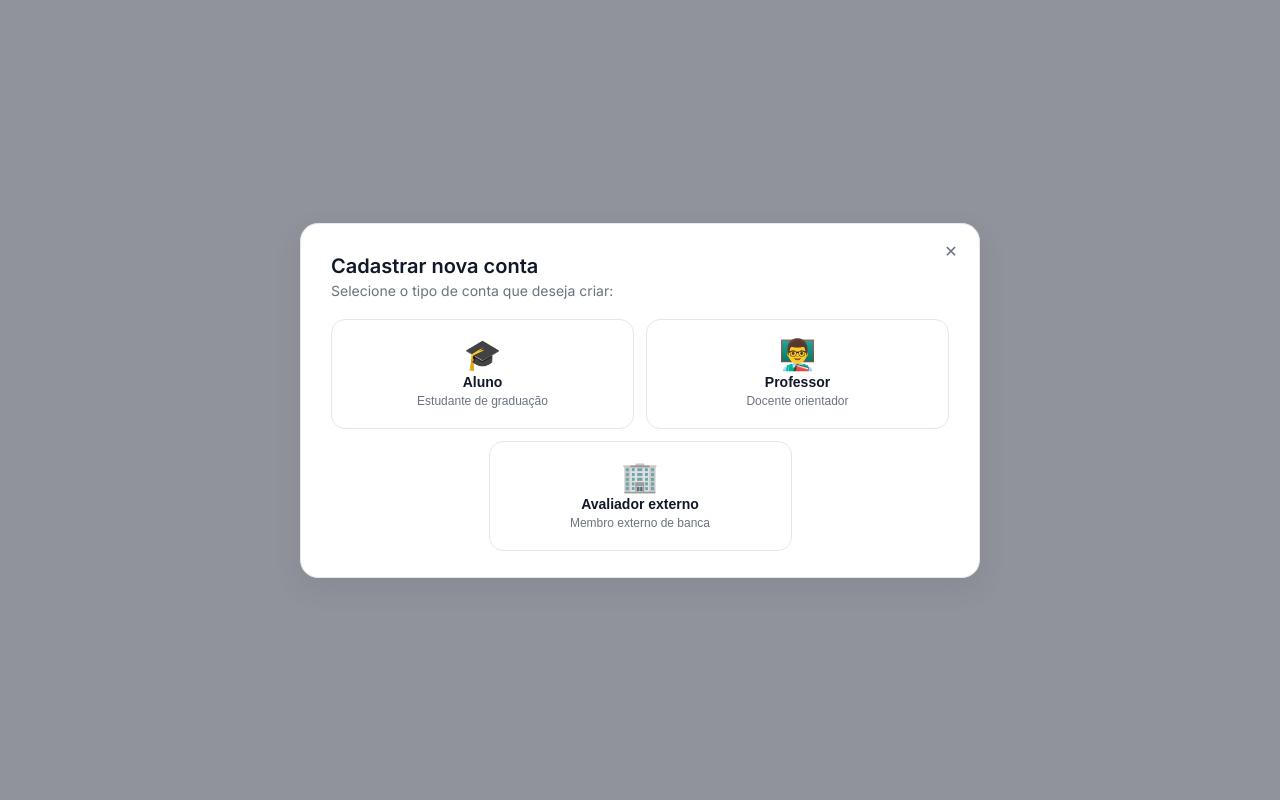
Perfil SEM código configurado › erro de código vindo do backend aparece no campo
Click the text "Aluno": (483, 382) [463,374,502,390]
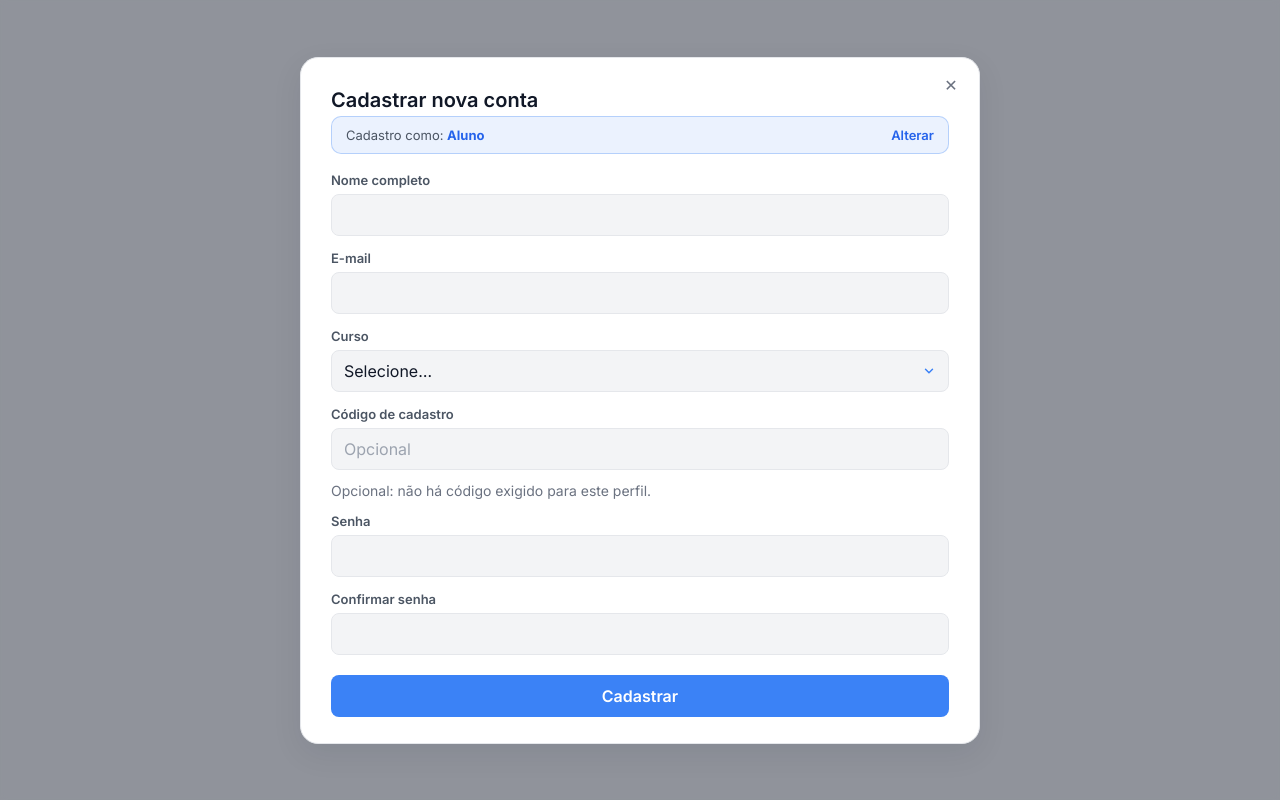
In the field labelled "Nome completo": (640, 214) [331,194,949,236], type "Fulano de Tal"
In the field labelled "E-mail": (640, 292) [331,272,949,314], type "fulano@exemplo.com"
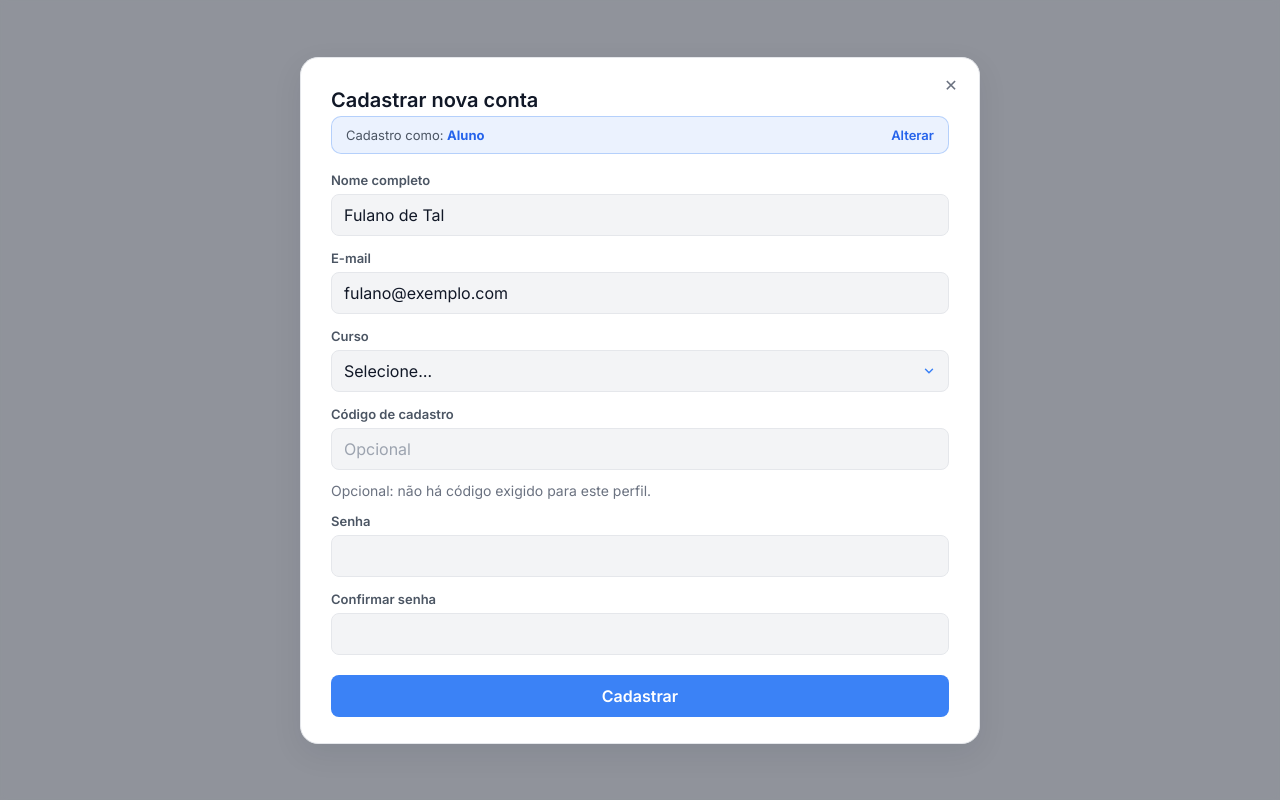
Select "Engenharia Elétrica" in the dropdown labelled "Curso": (640, 370) [331,350,949,392]
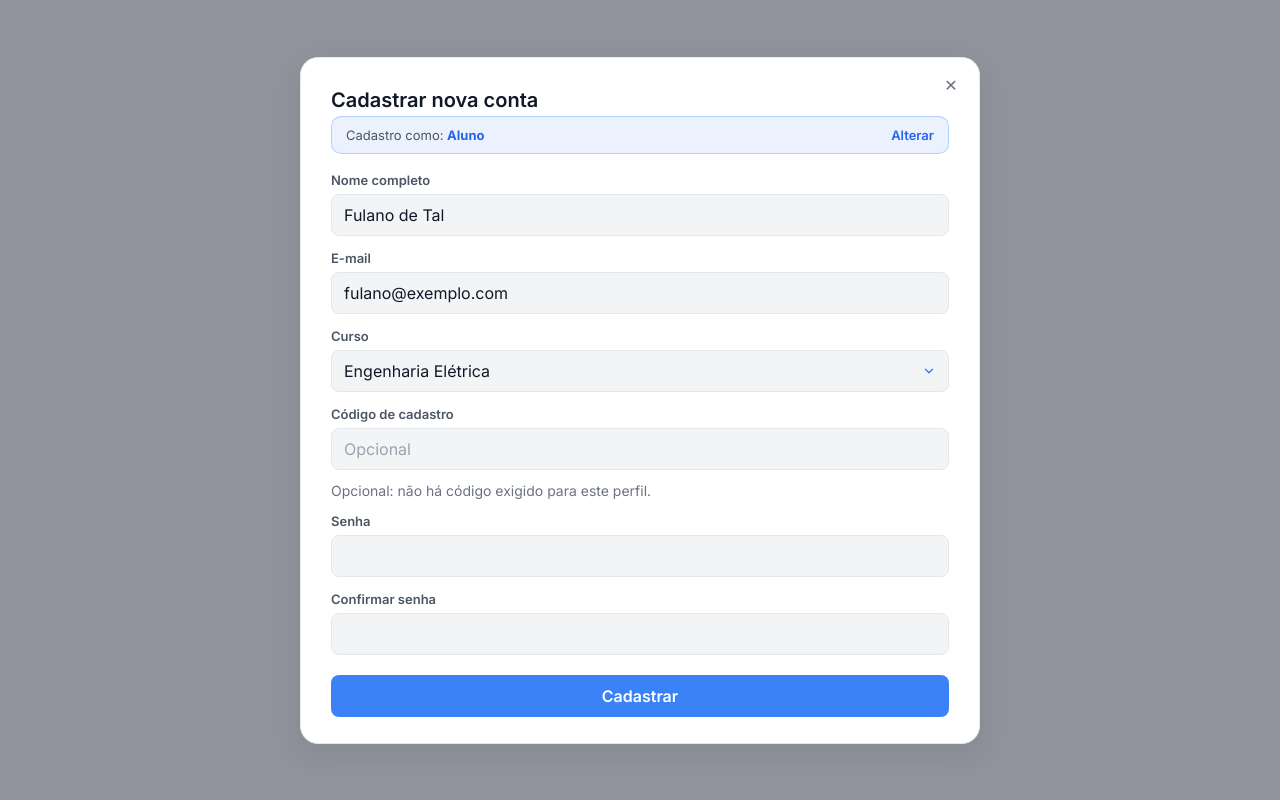
In the password field labelled "Senha": (640, 556) [331,534,949,576], type "senha123"
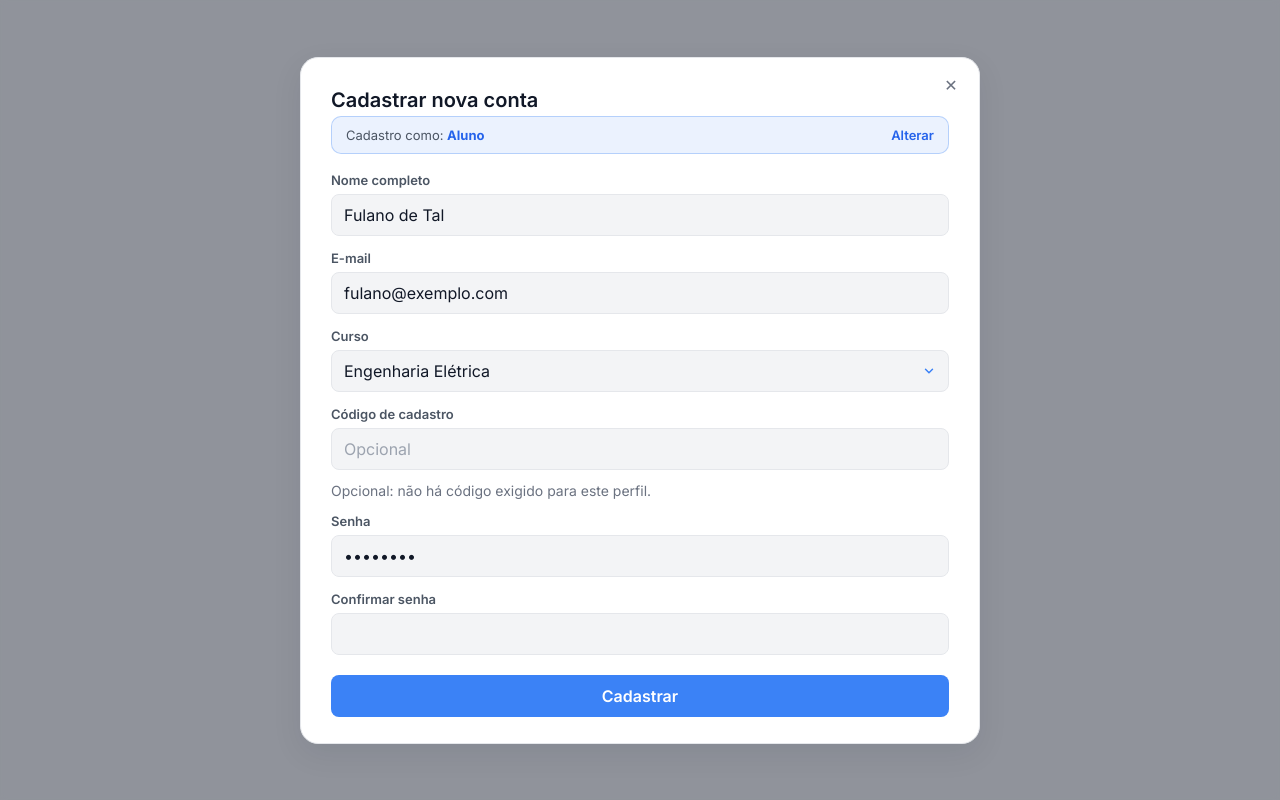
In the password field labelled "Confirmar senha": (640, 634) [331,612,949,654], type "senha123"
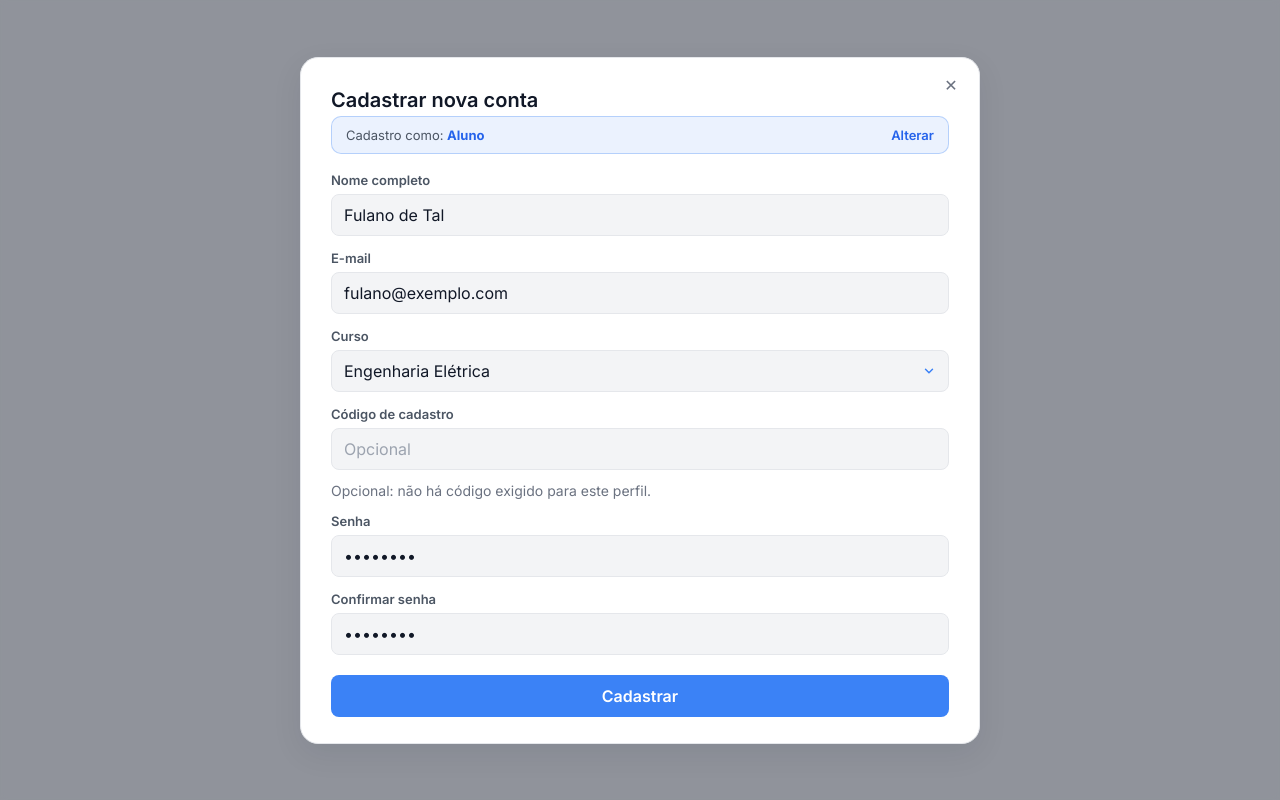
Click the button "Cadastrar": (640, 696) [331,674,949,716]
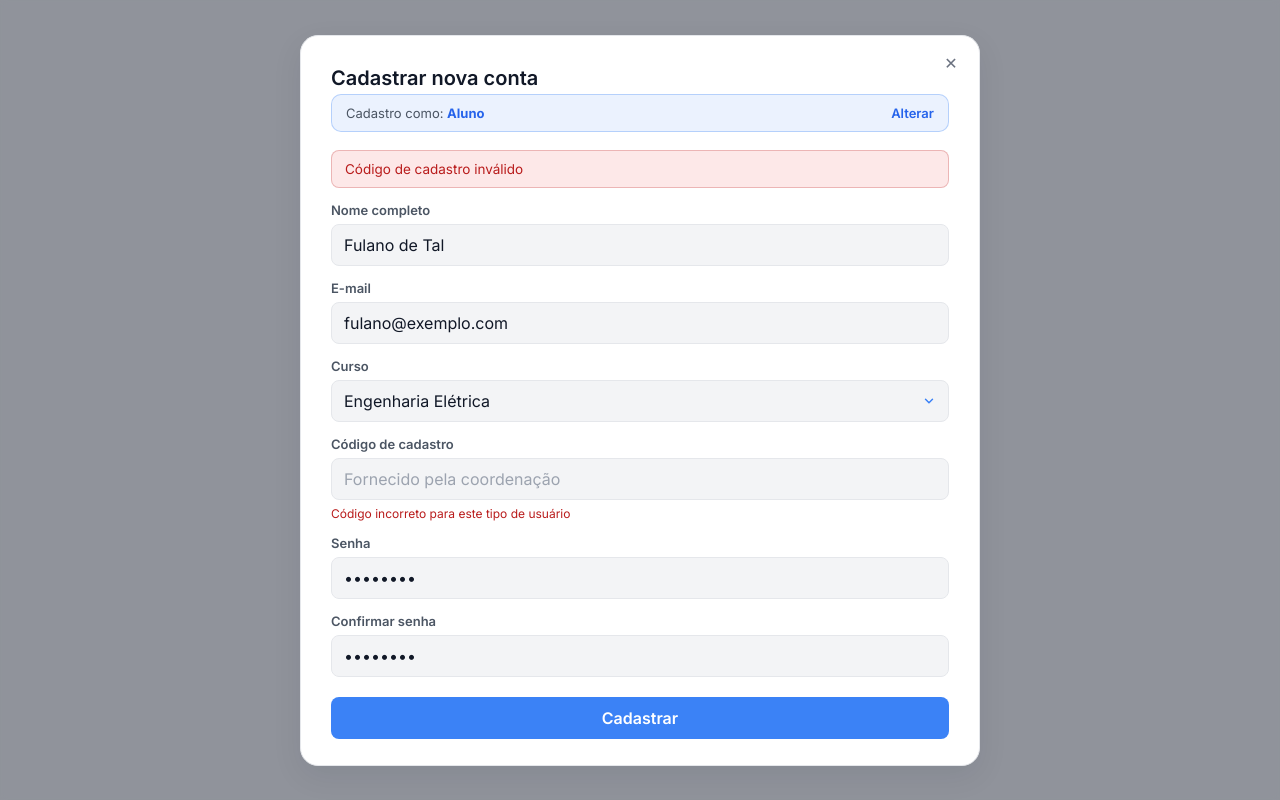
Result: the text "Código incorreto para este tipo de usuário" is shown at [331,506,570,520]
Result: the text "Opcional: não há código exigido para este perfil." is gone
